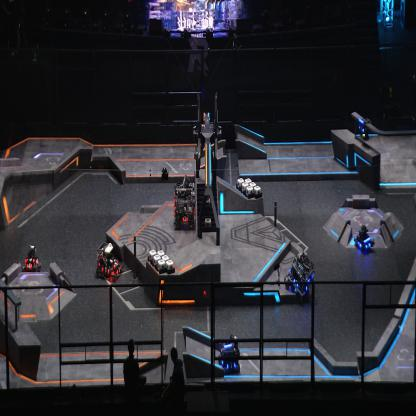car: (284, 249, 315, 301), (172, 180, 196, 230), (95, 242, 124, 281), (218, 333, 240, 376), (354, 224, 374, 254), (22, 244, 42, 272)
